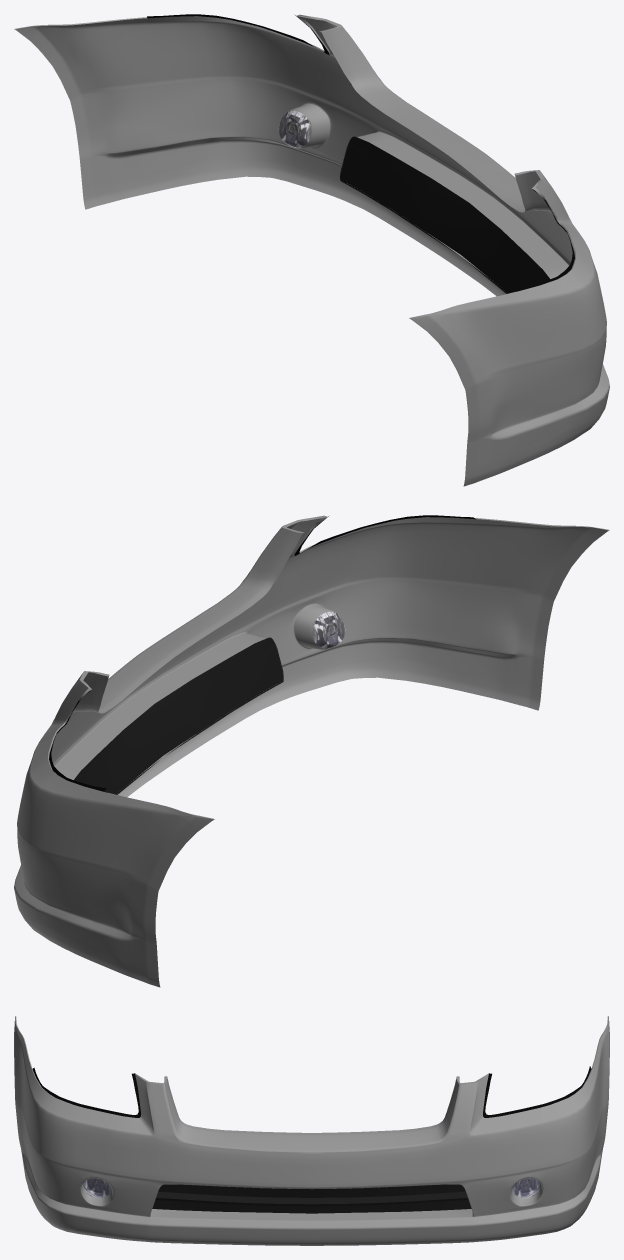
3 views of the same model, one above another, from view 1: azimuth 30°, elevation 25°; view 2: azimuth 150°, elevation 25°; view 3: azimuth 270°, elevation 25° (orthographic). The views are drawn at different scales.
Parts seen in each view (by area): view 1: Z186_021G_C_4_DaS_Z186_021G_C, Z186_021G_C_Z186_021G_C_5_D, Z186_021G_C_4_DaS_Z186_021G_C_E, Z186_021G_C_Z186_021G_C_1_N; view 2: Z186_021G_C_4_DaS_Z186_021G_C, Z186_021G_C_Z186_021G_C_5_D, Z186_021G_C_4_DaS_Z186_021G_C_E, Z186_021G_C_Z186_021G_C_2_N; view 3: Z186_021G_C_4_DaS_Z186_021G_C, Z186_021G_C_Z186_021G_C_5_D, Z186_021G_C_4_DaS_Z186_021G_C_E, Z186_021G_C_Z186_021G_C_3_D, Z186_021G_C_Z186_021G_C_7_D, Z186_021G_C_Z186_021G_C_8_D, Z186_021G_C_Z186_021G_C_1_N, Z186_021G_C_Z186_021G_C_2_N, Z186_021G_C_Z186_021G_C_6_DTaSI, Z186_021G_C_Z186_021G_C_9_DTaSI.
Boxes of the visible parts, x1,y1,x2,y2 form: Z186_021G_C_4_DaS_Z186_021G_C: (15,16,609,486); Z186_021G_C_Z186_021G_C_5_D: (340,136,549,293); Z186_021G_C_4_DaS_Z186_021G_C_E: (14,14,575,318); Z186_021G_C_Z186_021G_C_1_N: (278,110,311,148); Z186_021G_C_4_DaS_Z186_021G_C: (14,517,608,987); Z186_021G_C_Z186_021G_C_5_D: (74,637,283,794); Z186_021G_C_4_DaS_Z186_021G_C_E: (48,515,609,819); Z186_021G_C_Z186_021G_C_2_N: (312,611,345,649); Z186_021G_C_4_DaS_Z186_021G_C: (14,1017,609,1245); Z186_021G_C_Z186_021G_C_5_D: (152,1184,471,1213); Z186_021G_C_4_DaS_Z186_021G_C_E: (15,1016,608,1220); Z186_021G_C_Z186_021G_C_3_D: (155,1191,468,1206); Z186_021G_C_Z186_021G_C_7_D: (483,1066,591,1117); Z186_021G_C_Z186_021G_C_8_D: (32,1067,140,1117); Z186_021G_C_Z186_021G_C_1_N: (512,1178,540,1198); Z186_021G_C_Z186_021G_C_2_N: (83,1178,111,1198); Z186_021G_C_Z186_021G_C_6_DTaSI: (513,1178,540,1197); Z186_021G_C_Z186_021G_C_9_DTaSI: (83,1178,110,1197).
Size of the model in its own units: 83.48 by 59.87 by 203.
